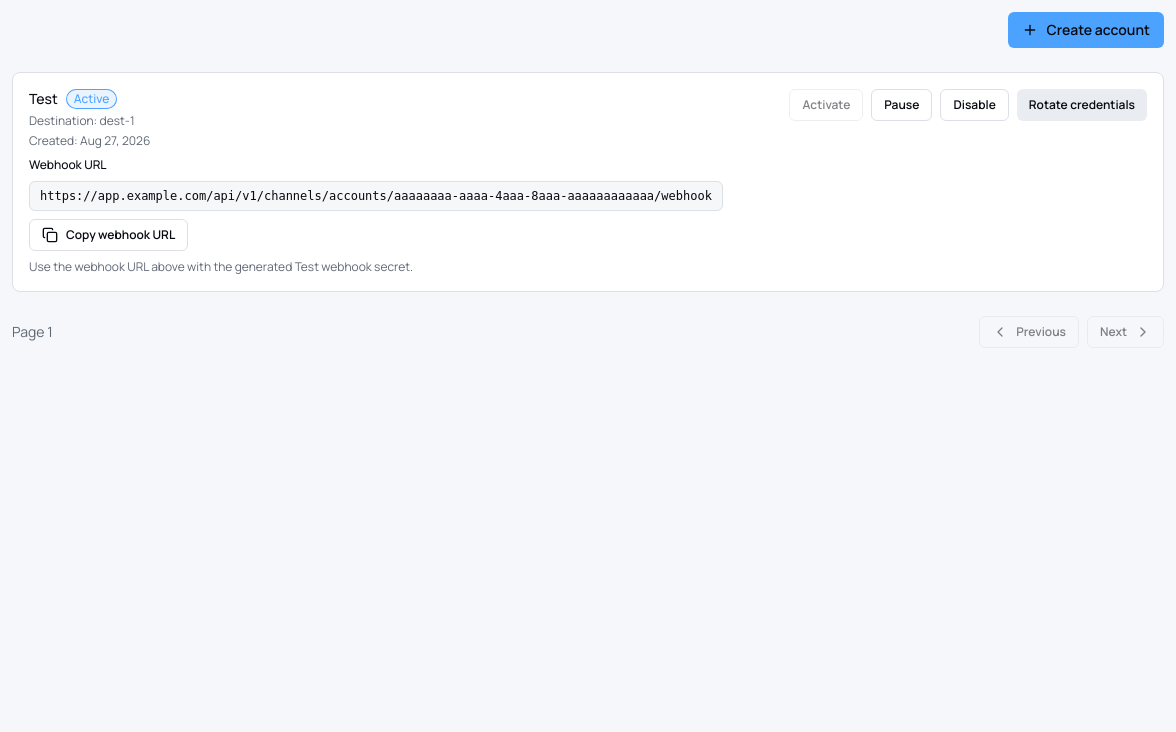
Test case: ChannelAccountsClient › copies and dismisses the one-time secret without persisting it
Check: the text "Test" is shown, box x1=29 y1=89 x2=58 y2=109
Click the button "Create account": (1086, 30) x1=1008 y1=12 x2=1164 y2=48
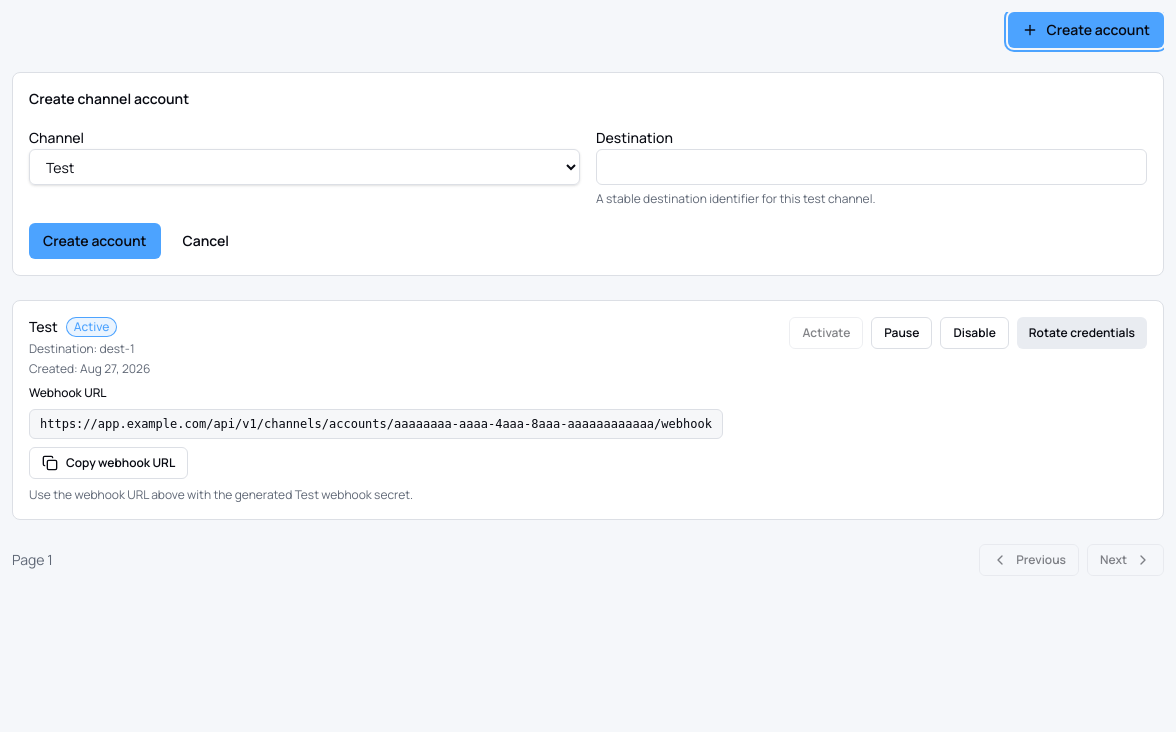
In the field labelled "Destination": (872, 167) x1=596 y1=149 x2=1147 y2=185, type "dest-1"
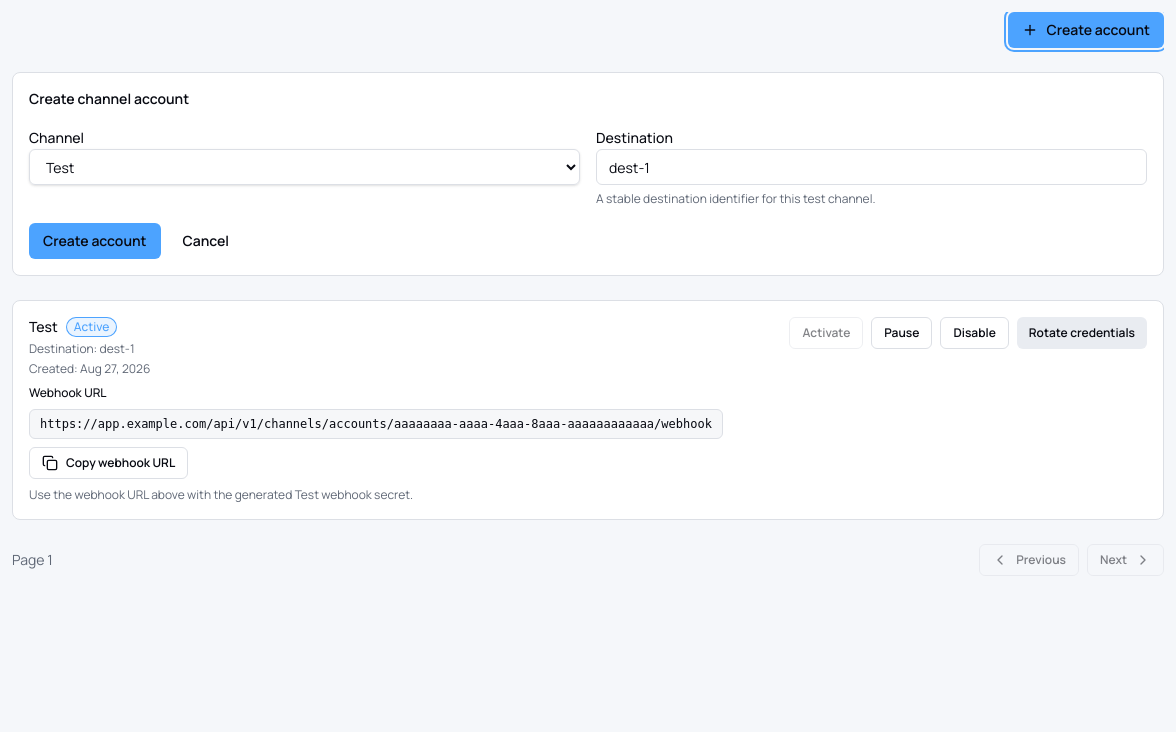
Click the button "Create account" below "Create channel account": (95, 241) x1=29 y1=223 x2=160 y2=259
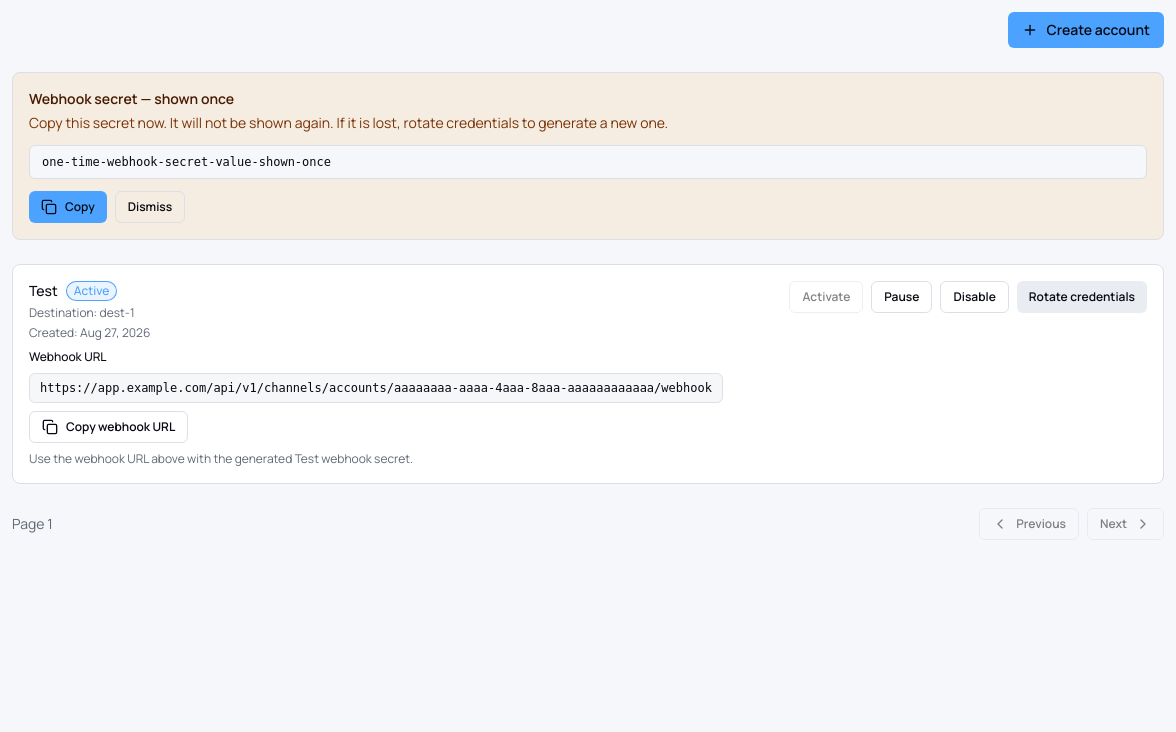
Check: the text with test id "one-time-secret-value" reads "one-time-webhook-secret-value-shown-once", box x1=42 y1=155 x2=331 y2=169
Click the button "Copy": (68, 207) x1=29 y1=191 x2=107 y2=223
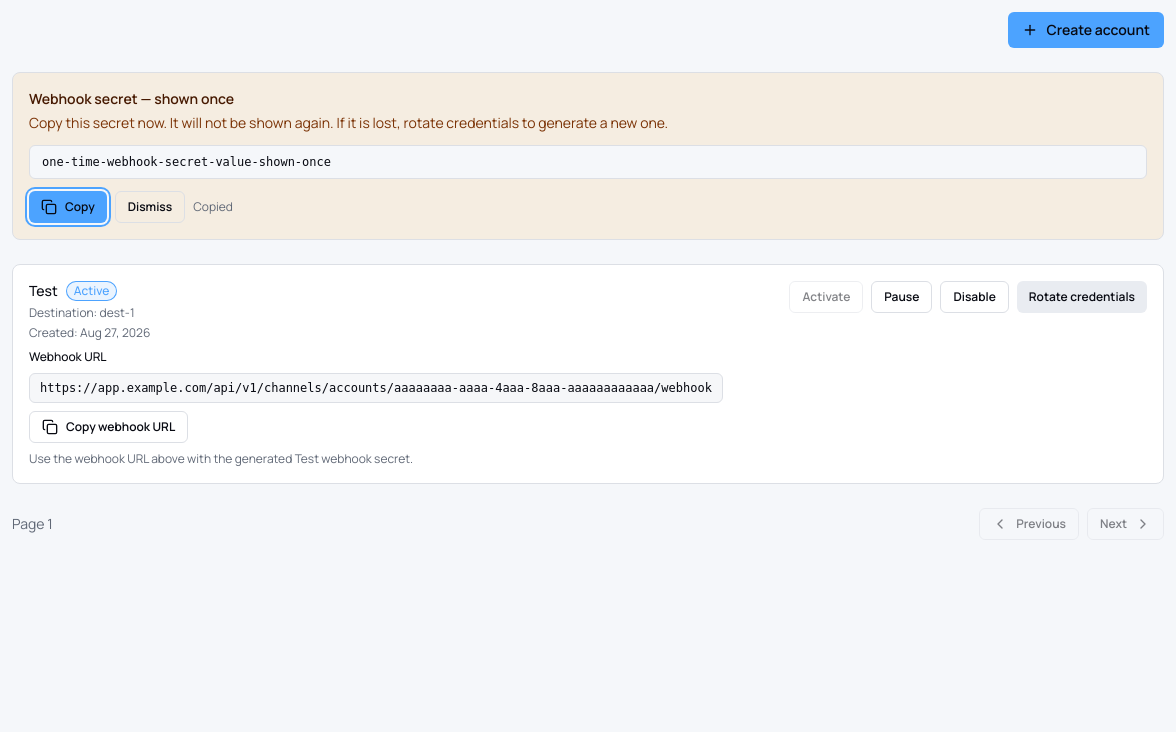
Click the button "Dismiss": (150, 207) x1=115 y1=191 x2=185 y2=223
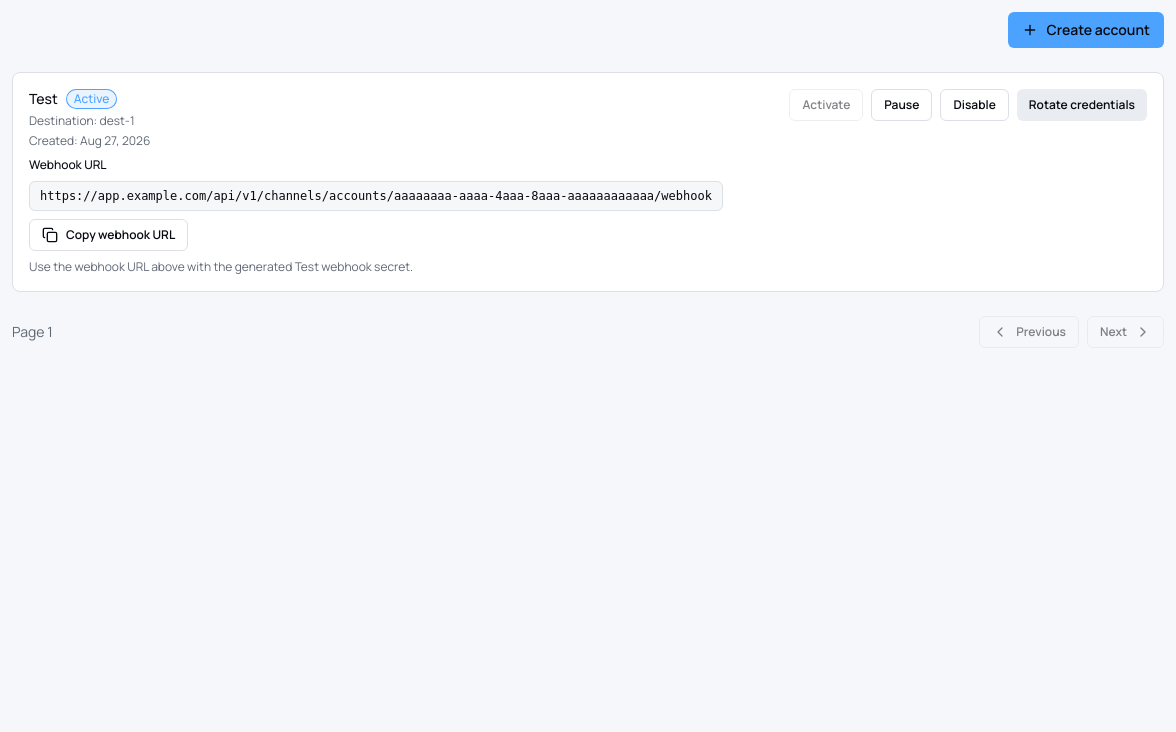
Check: the element with test id "one-time-secret-panel" is gone
Check: the text "one-time-webhook-secret-value-shown-once" is gone
